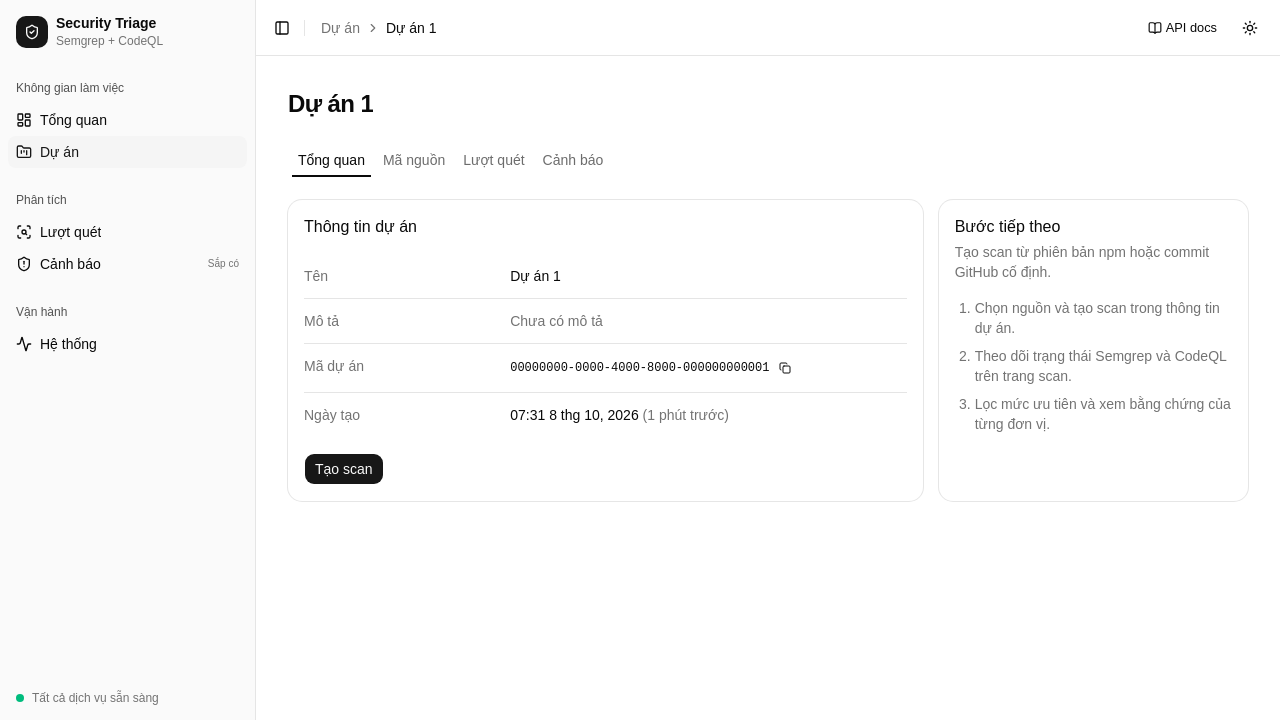
Test case: Create scan dialog › creates a scoped npm package at an exact version and opens the accepted scan
This screenshot has width=1280, height=720.
Click the button "Tạo scan" at (344, 469), box [304,453,384,485]
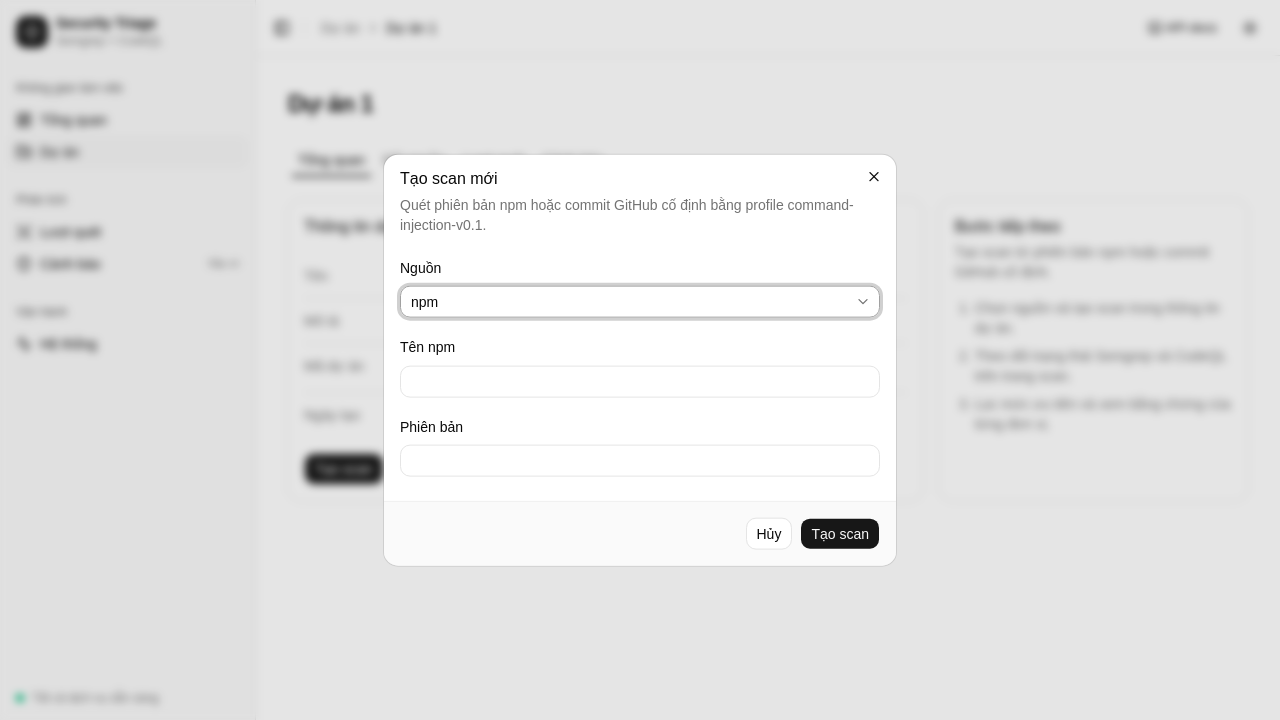
Type "@scope/package" into the field labelled "Tên npm" at (640, 381), box [400,365,880,397]
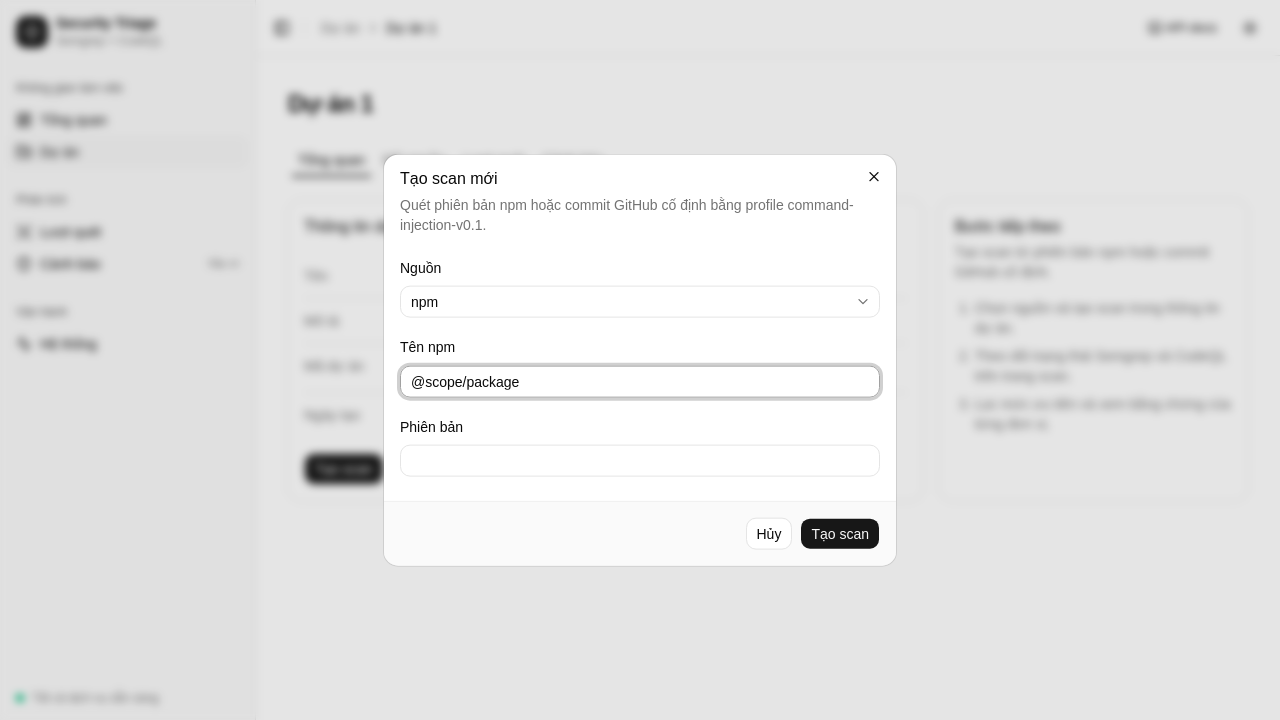
Type "1.2.3-beta.1+build.2" into the field labelled "Phiên bản" at (640, 460), box [400,444,880,476]
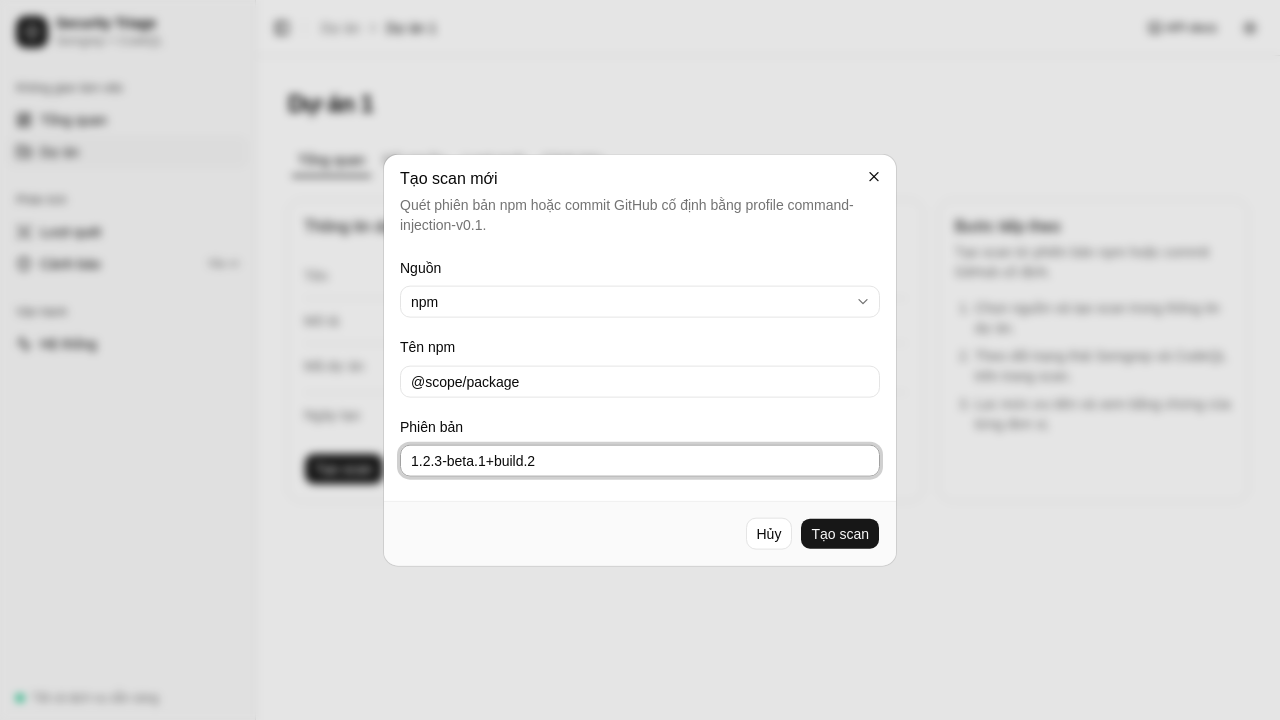
Click the button "Tạo scan" at (840, 533), box [800,517,880,549]
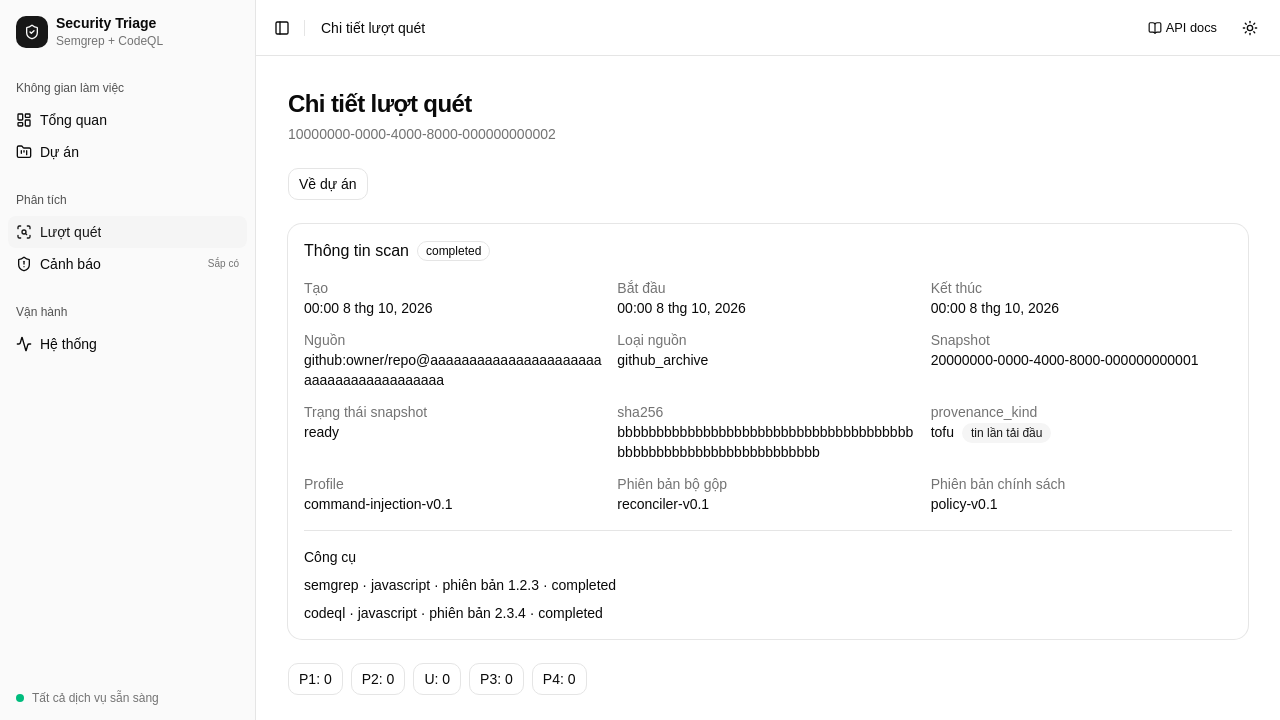
Result: the heading "Chi tiết lượt quét" is shown at [288,90,472,117]
